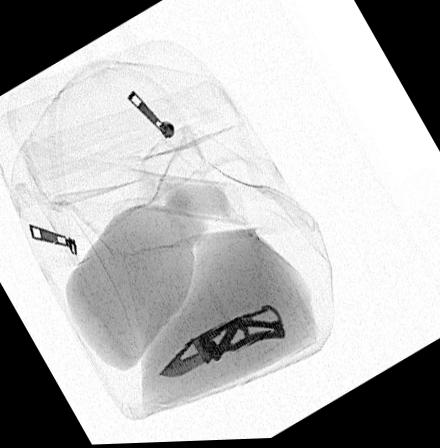Knife: (156, 303, 288, 379)
